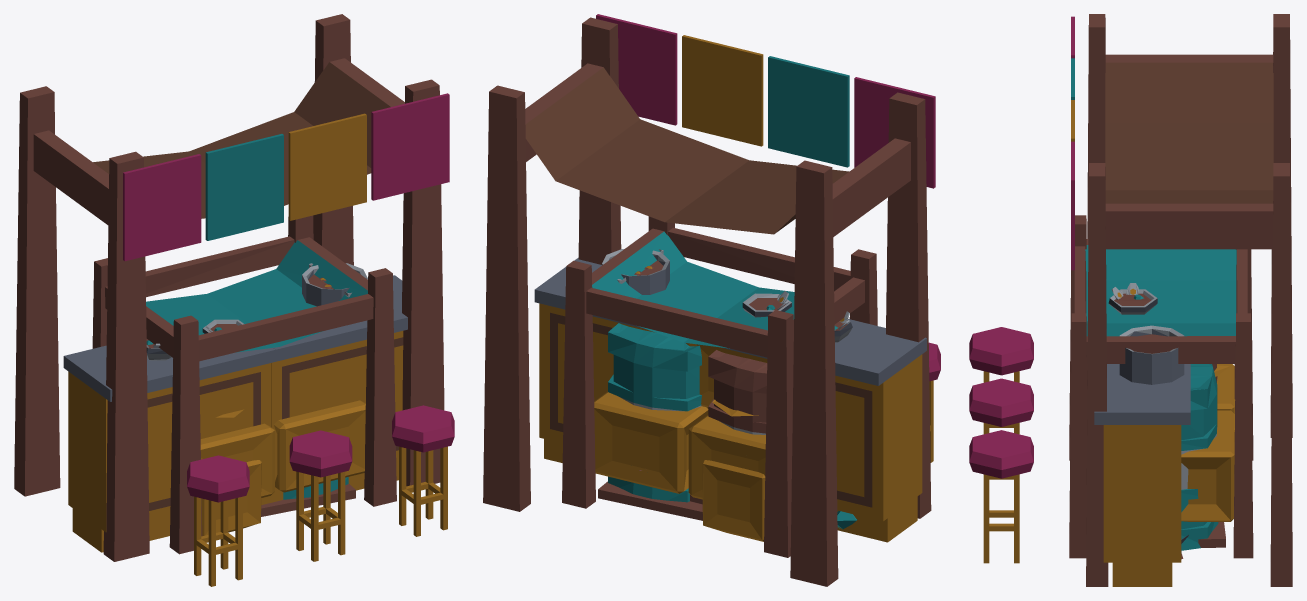
Rendered from market-props.glb.
The picture shows the model from 3 angles, left to right: view 1: azimuth 30°, elevation 25°; view 2: azimuth 150°, elevation 25°; view 3: azimuth 270°, elevation 25°; orthographic projection. The views are drawn at different scales.
Parts seen in each view (by area): view 1: mk-yatai, mk-canvas, mk-cartons; view 2: mk-yatai, mk-canvas, mk-cartons, mk-barrels; view 3: mk-yatai, mk-canvas, mk-cartons, mk-barrels.
Boxes of the visible parts, bbox=[...] form: mk-yatai: bbox=[14, 14, 454, 586]; mk-canvas: bbox=[92, 215, 396, 554]; mk-cartons: bbox=[200, 400, 365, 516]; mk-yatai: bbox=[483, 14, 940, 586]; mk-canvas: bbox=[562, 216, 877, 557]; mk-cartons: bbox=[594, 343, 767, 520]; mk-barrels: bbox=[608, 323, 767, 502]; mk-yatai: bbox=[969, 14, 1292, 586]; mk-canvas: bbox=[1069, 215, 1253, 558]; mk-cartons: bbox=[1181, 364, 1234, 547]; mk-barrels: bbox=[1181, 364, 1218, 550].
Bounding box in the file's own units: 2.1 × 2.4 × 1.72.
Materials: 1 (1 with a texture image).
